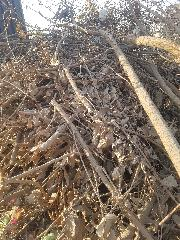organic: (3, 12, 176, 232)
